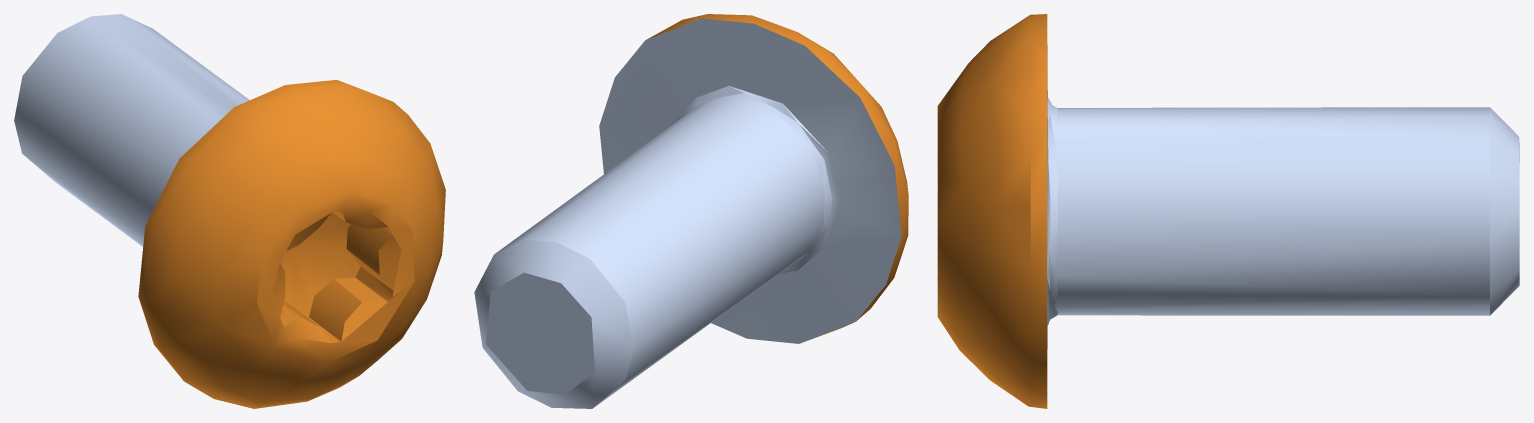
Rendered from Colored__8-32_x_3_8_Star_Drive_Screw__276-4991__001.glb.
3 renders of one model, left to right at view 1: azimuth 30°, elevation 25°; view 2: azimuth 150°, elevation 25°; view 3: azimuth 270°, elevation 25°, orthographic. The views are drawn at different scales.
Parts seen in each view (by area): view 1: Colored #8-32 x 3_8 Star Drive Screw (276-4991).001; view 2: Colored #8-32 x 3_8 Star Drive Screw (276-4991).001; view 3: Colored #8-32 x 3_8 Star Drive Screw (276-4991).001.
Boxes of the visible parts, x1,y1,x2,y2 form: Colored #8-32 x 3_8 Star Drive Screw (276-4991).001: [14, 14, 445, 408]; Colored #8-32 x 3_8 Star Drive Screw (276-4991).001: [474, 14, 908, 408]; Colored #8-32 x 3_8 Star Drive Screw (276-4991).001: [937, 14, 1519, 408].
Size of the model in its own units: 0.3123 by 0.3131 by 0.4623.
